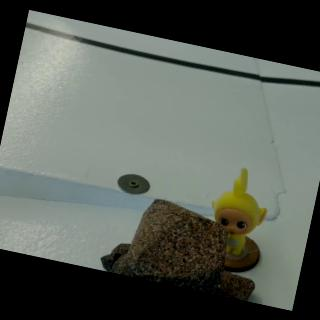teletubby: (211, 168, 266, 255)
